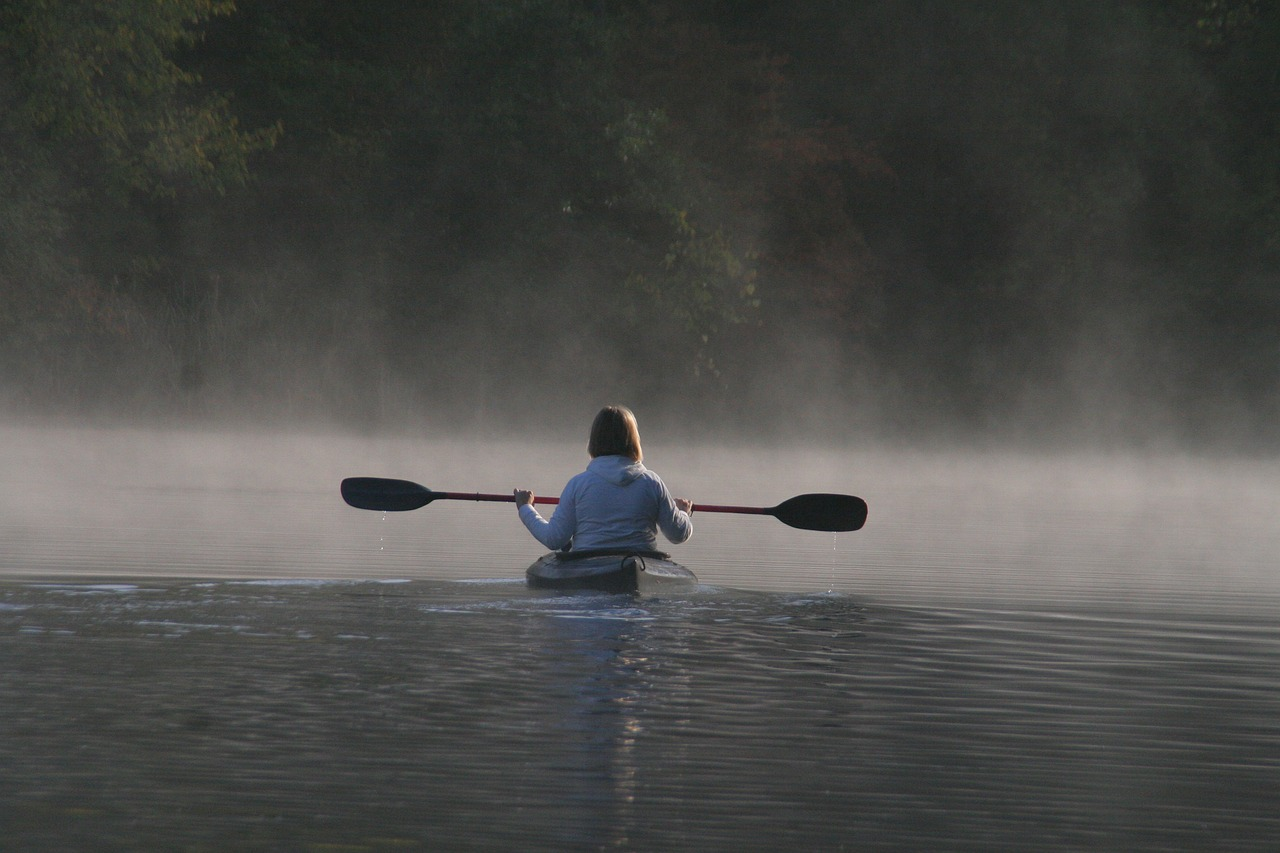kayak: (521, 544, 709, 608)
